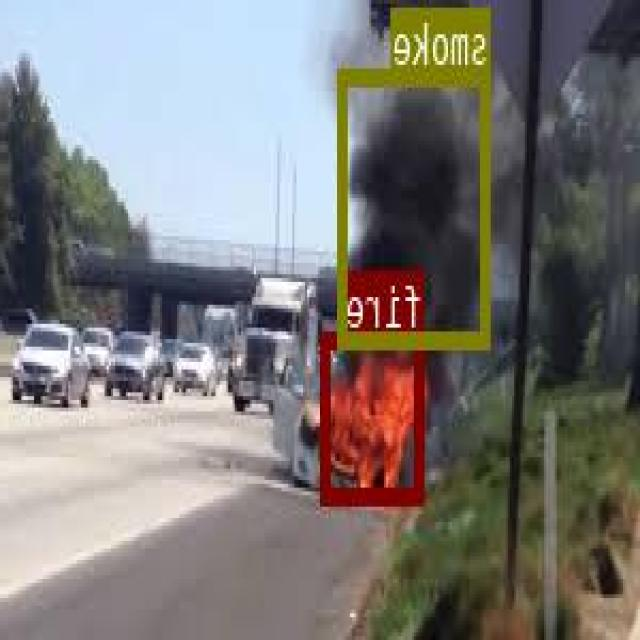fire: (323, 329, 426, 500)
smoke: (340, 66, 491, 343)
